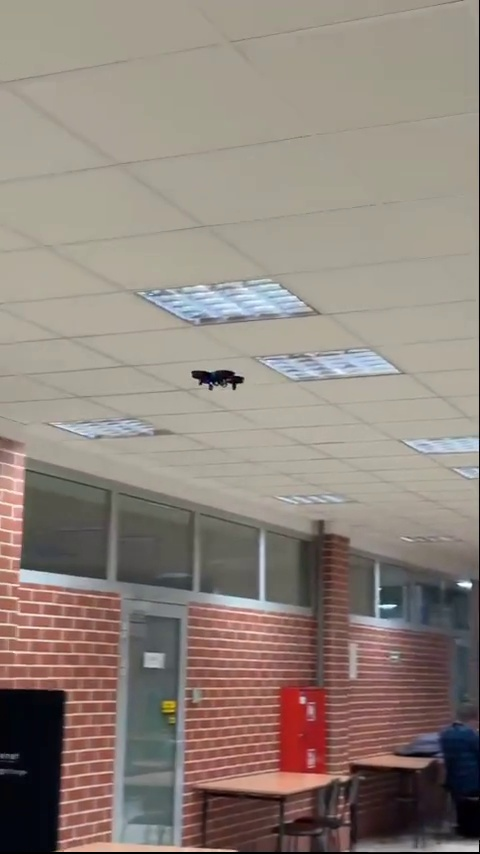drone: (190, 365, 248, 394)
